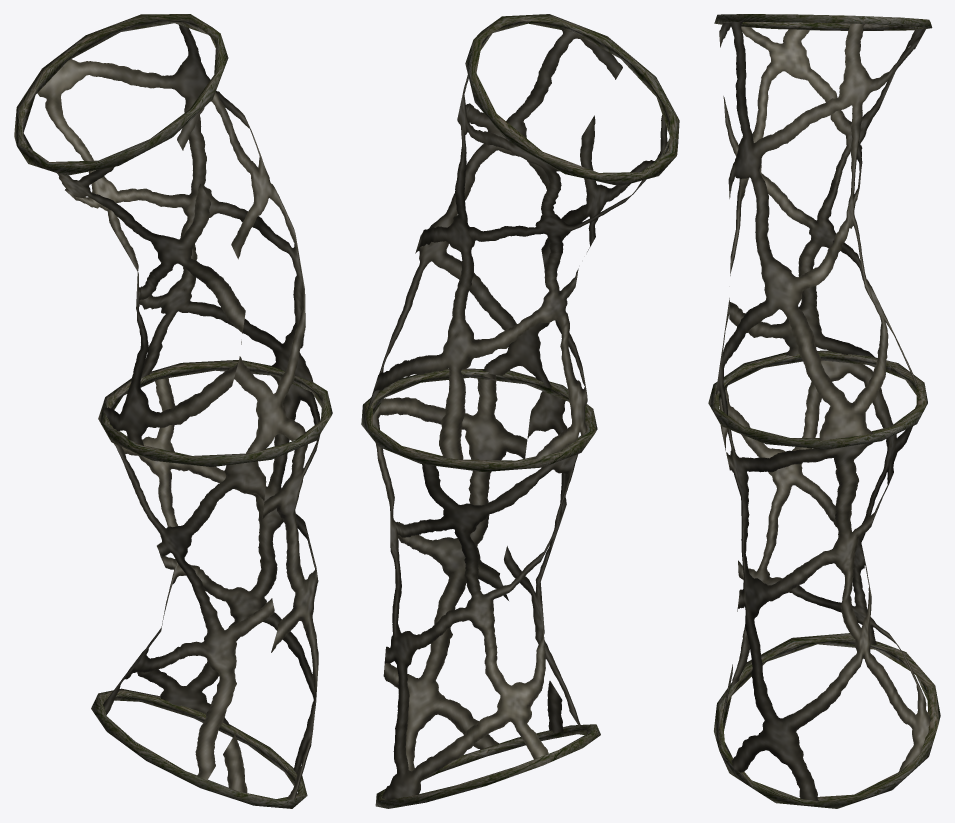
File: TI_FishNet_05.fbx
3 renders of one model, left to right at view 1: azimuth 30°, elevation 25°; view 2: azimuth 150°, elevation 25°; view 3: azimuth 270°, elevation 25°, orthographic. The views are drawn at different scales.
Parts seen in each view (by area): view 1: TI_FishNet_04_001, TI_WoodRing; view 2: TI_FishNet_04_001, TI_WoodRing; view 3: TI_FishNet_04_001, TI_WoodRing.
Part boxes in pixels (<box>): TI_FishNet_04_001: <box>37,25,320,800</box>; TI_WoodRing: <box>14,14,332,808</box>; TI_FishNet_04_001: <box>366,27,667,799</box>; TI_WoodRing: <box>361,14,679,808</box>; TI_FishNet_04_001: <box>715,22,930,801</box>; TI_WoodRing: <box>708,14,940,808</box>.
Bounding box in the file's own units: 1.65 × 4.26 × 1.19.
